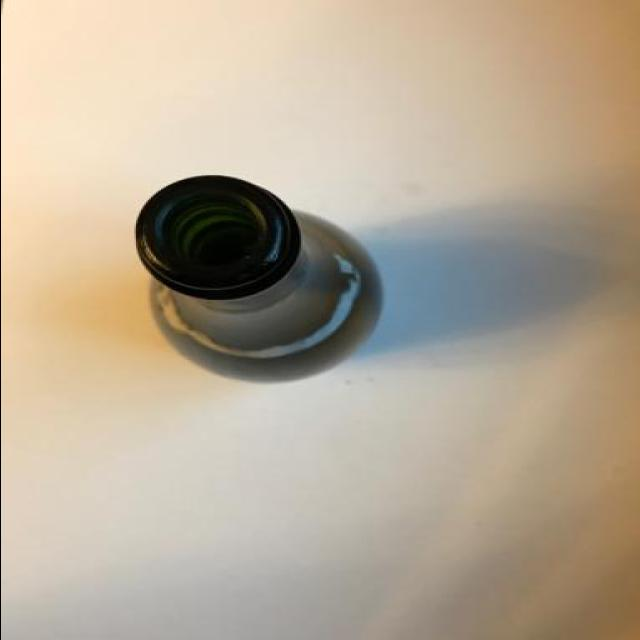litter: (125, 170, 385, 388)
